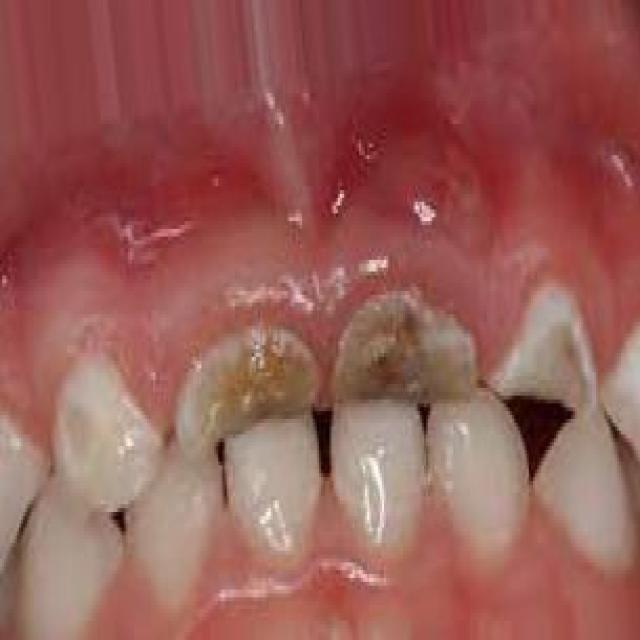caries: (171, 336, 325, 467), (337, 296, 483, 422), (492, 279, 612, 426)
